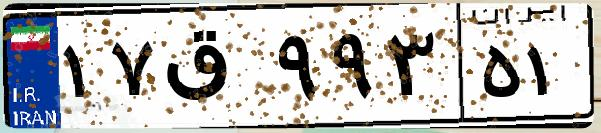1: (57, 26, 110, 100), (525, 38, 570, 115)
3: (385, 28, 445, 110)
5: (475, 38, 525, 113)
7: (110, 28, 158, 98)
9: (270, 28, 330, 110), (330, 28, 385, 110)
ق: (158, 20, 270, 120)
